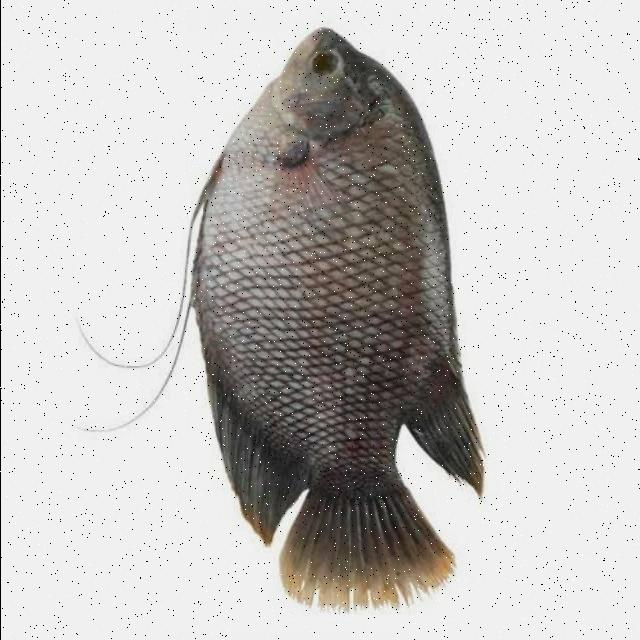Mulut: (256, 5, 376, 81)
Sirip Anal: (182, 316, 312, 552)
Sirip Dada: (247, 125, 355, 243)
Sirip Ekor: (255, 466, 471, 640)
Sirip Punggung: (388, 302, 520, 510)
